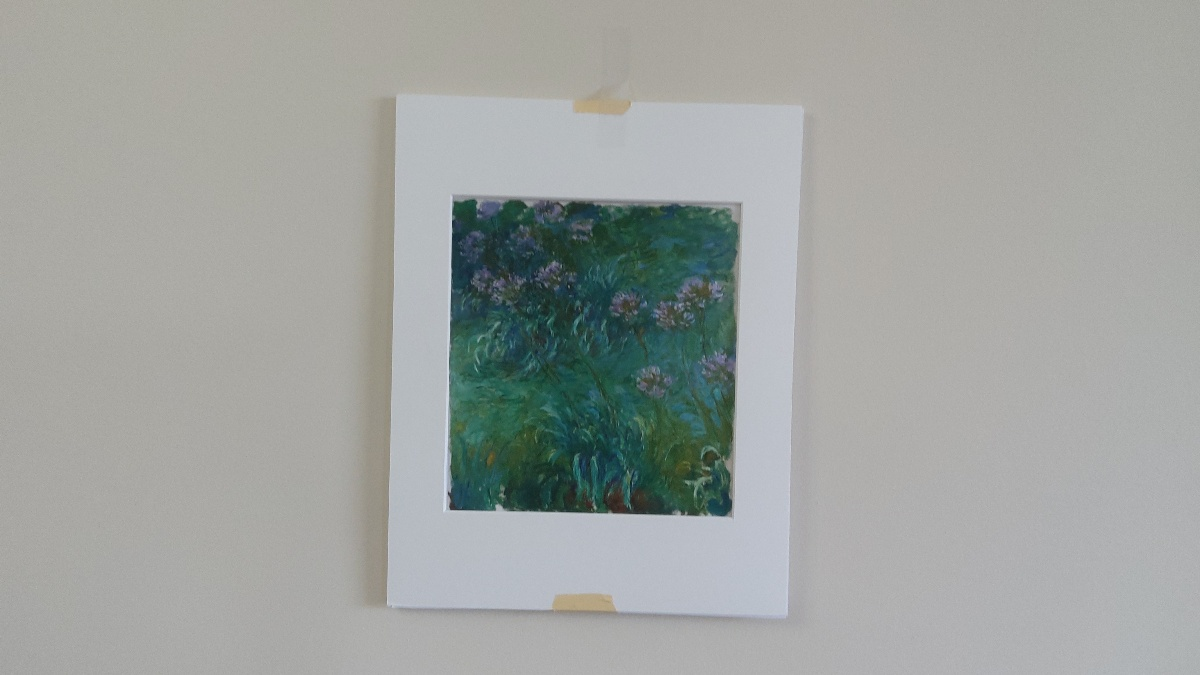painting: (434, 183, 744, 534)
